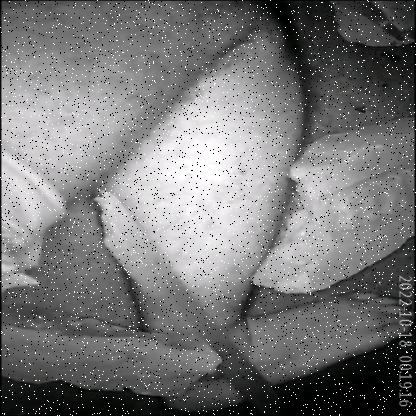leg: (82, 195, 416, 412)
